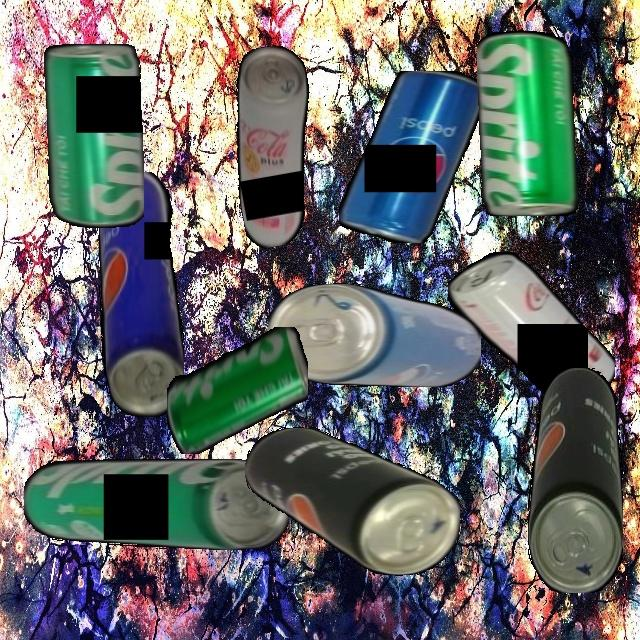debris: (244, 427, 460, 576), (338, 71, 485, 243), (215, 41, 335, 251), (447, 252, 615, 398), (23, 459, 289, 550), (268, 282, 481, 387), (527, 367, 623, 593), (98, 171, 184, 417), (477, 30, 578, 216), (43, 44, 144, 228), (166, 326, 308, 454)
